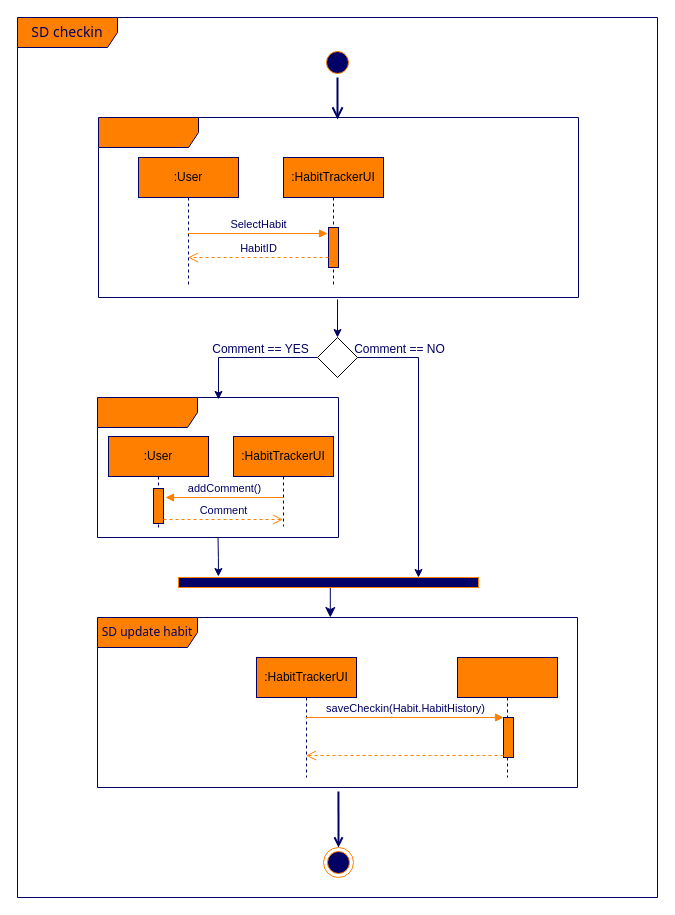
Image size: 675x915. Some labels were removed from this diagram. The box of each missing label's shape, as (x1, y1, x2, y2) in pixels:
:DataStore: (456, 656, 558, 778)
SD add comment: (96, 396, 338, 538)
SD select habit: (98, 116, 578, 298)
